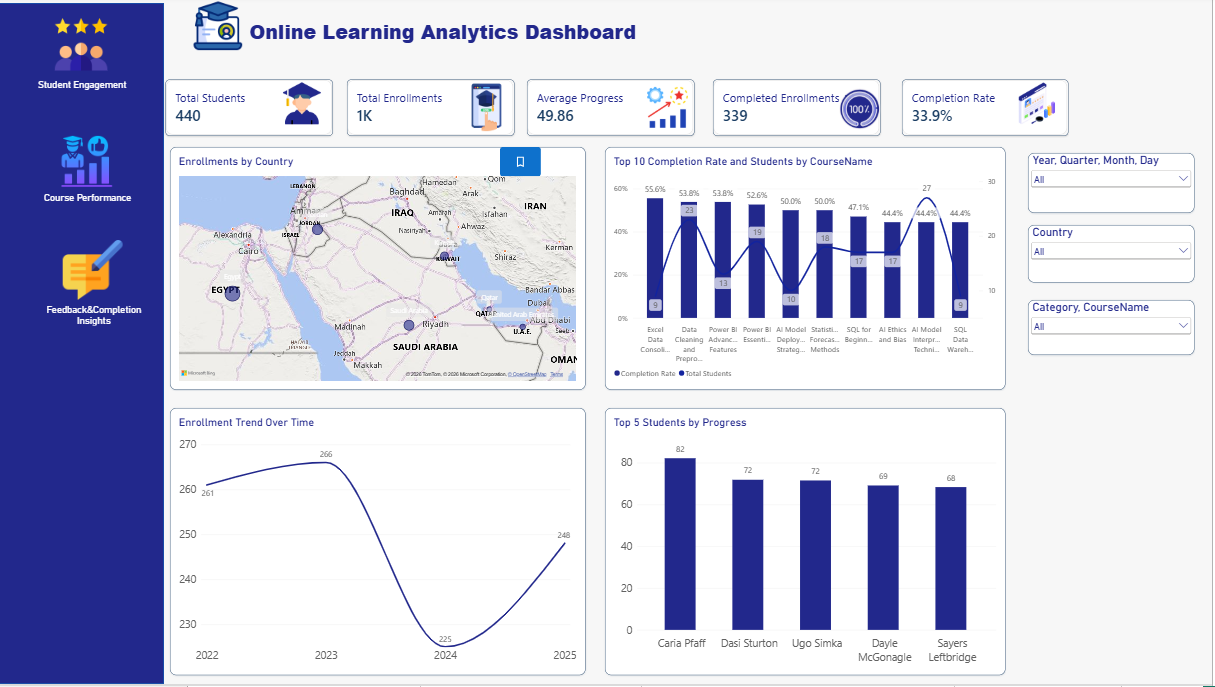

What the dashboard file says about the page in this screenshot:
{"tool":"powerbi","page":{"name":"Student Engagement","canvas":[2300,1300],"ordinal":0},"visuals":[{"type":"map","title":"Enrollments by Country","fields":{"Category":["DimStudents.Country"],"Size":["CountNonNull(FactEnrollments.EnrollID)"]},"box":[329.1,283.7,785.9,459.6],"z":0},{"type":"lineStackedColumnComboChart","title":"Top 5 Students by Progress","fields":{"Y":["Measures (2).Average Progress"],"Category":["DimStudents.Name"]},"box":[1151.9,777.4,757.5,505],"z":1000},{"type":"cardVisual","fields":{"Data":["Measures (2).Total Students"]},"box":[321.6,154.8,316.8,106.4],"z":2000},{"type":"cardVisual","fields":{"Data":["Measures (2).Total Enrollments"]},"box":[662.6,154.8,316.8,106.4],"z":3000},{"type":"cardVisual","fields":{"Data":["Measures (2).Average Progress"]},"box":[1003.6,154.8,316.8,106.4],"z":4000},{"type":"lineStackedColumnComboChart","title":"Top 10 Completion Rate and Students by CourseName","fields":{"Category":["DimCourses.CourseName"],"Y":["Measures (2).Completion Rate"],"Y2":["Measures (2).Total Students"]},"box":[1151.9,283.7,757.5,459.6],"z":5000},{"type":"cardVisual","fields":{"Data":["Measures (2).Completed Enrollments"]},"box":[1356.7,154.8,316.8,106.4],"z":6000},{"type":"cardVisual","fields":{"Data":["Measures (2).Completion Rate"]},"box":[1714.6,154.8,314.4,106.4],"z":7000},{"type":"lineChart","title":"Enrollment Trend Over Time","fields":{"Category":["FactEnrollments.EnrollDate.Variation.Date Hierarchy.Year","FactEnrollments.EnrollDate.Variation.Date Hierarchy.Quarter","FactEnrollments.EnrollDate.Variation.Date Hierarchy.Month","FactEnrollments.EnrollDate.Variation.Date Hierarchy.Day"],"Y":["CountNonNull(FactEnrollments.EnrollID)"]},"box":[329.1,777.4,785.9,505],"z":8000},{"type":"slicer","fields":{"Values":["FactEnrollments.EnrollDate.Variation.Date Hierarchy.Year","FactEnrollments.EnrollDate.Variation.Date Hierarchy.Quarter","FactEnrollments.EnrollDate.Variation.Date Hierarchy.Month","FactEnrollments.EnrollDate.Variation.Date Hierarchy.Day"]},"box":[1951.6,295,314.4,113.7],"z":9000},{"type":"slicer","fields":{"Values":["DimStudents.Country"]},"box":[1951.6,430.5,314.4,108.8],"z":10000},{"type":"slicer","fields":{"Values":["DimCourses.Category Hierarchy.Category","DimCourses.Category Hierarchy.CourseName"]},"box":[1951.6,573.1,314.4,104],"z":11000},{"type":"shape","box":[0,11.3,317.8,1288.1],"z":12000},{"type":"textbox","title":"Online Learning  Analytics Dashboard","box":[478.8,38.7,1022.9,116.1],"z":13000},{"type":"image","box":[360.3,9.7,118.5,91.9],"z":14000},{"type":"image","box":[99.1,38.7,123.3,99.1],"z":15000},{"type":"image","box":[91.9,261.2,162,99.1],"z":16000},{"type":"actionButton","box":[77.4,227.3,195.9,176.5],"z":17000},{"type":"textbox","title":"Student Engagement","box":[79.8,154.8,203.1,70.1],"z":18000},{"type":"actionButton","box":[58,14.5,195.9,188.6],"z":19000},{"type":"textbox","title":"Course Performance","box":[89.5,367.6,195.9,70.1],"z":20000},{"type":"image","box":[125.8,459.5,116.1,113.7],"z":21000},{"type":"textbox","title":"Feedback&Completion Insights","box":[89.5,582.8,188.6,75],"z":22000},{"type":"actionButton","box":[72.5,437.7,205.6,200.7],"z":23000},{"type":"image","box":[536.9,159.6,84.6,84.6],"z":24000},{"type":"image","box":[877.8,162,101.6,91.9],"z":25000},{"type":"image","box":[1230.9,166.9,77.4,82.2],"z":26000},{"type":"image","box":[1579.1,171.7,106.4,77.4],"z":27000},{"type":"image","box":[1927.4,159.6,84.6,84.6],"z":28000},{"type":"actionButton","box":[953.3,283.7,77.4,55.6],"z":29000}]}

Visuals, with their boxes on the page's 2300x1300 design canvas (x1, y1, x2, y2). These are canvas units, not pixel positions in the 1215x687 screenshot, which may show the page scaled, cropped or inside an application window:
"Enrollments by Country" map: crop(329, 284, 1115, 743)
"Top 5 Students by Progress" lineStackedColumnComboChart: crop(1152, 777, 1909, 1282)
cardVisual - Measures (2).Total Students: crop(322, 155, 638, 261)
cardVisual - Measures (2).Total Enrollments: crop(663, 155, 979, 261)
cardVisual - Measures (2).Average Progress: crop(1004, 155, 1320, 261)
"Top 10 Completion Rate and Students by CourseName" lineStackedColumnComboChart: crop(1152, 284, 1909, 743)
cardVisual - Measures (2).Completed Enrollments: crop(1357, 155, 1674, 261)
cardVisual - Measures (2).Completion Rate: crop(1715, 155, 2029, 261)
"Enrollment Trend Over Time" lineChart: crop(329, 777, 1115, 1282)
slicer - FactEnrollments.EnrollDate.Variation.Date Hierarchy.Year x FactEnrollments.EnrollDate.Variation.Date Hierarchy.Quarter: crop(1952, 295, 2266, 409)
slicer - DimStudents.Country: crop(1952, 430, 2266, 539)
slicer - DimCourses.Category Hierarchy.Category x DimCourses.Category Hierarchy.CourseName: crop(1952, 573, 2266, 677)
shape: crop(0, 11, 318, 1299)
"Online Learning  Analytics Dashboard" textbox: crop(479, 39, 1502, 155)
image: crop(360, 10, 479, 102)
image: crop(99, 39, 222, 138)
image: crop(92, 261, 254, 360)
actionButton: crop(77, 227, 273, 404)
"Student Engagement" textbox: crop(80, 155, 283, 225)
actionButton: crop(58, 14, 254, 203)
"Course Performance" textbox: crop(90, 368, 285, 438)
image: crop(126, 460, 242, 573)
"Feedback&Completion Insights" textbox: crop(90, 583, 278, 658)
actionButton: crop(72, 438, 278, 638)
image: crop(537, 160, 622, 244)
image: crop(878, 162, 979, 254)
image: crop(1231, 167, 1308, 249)
image: crop(1579, 172, 1686, 249)
image: crop(1927, 160, 2012, 244)
actionButton: crop(953, 284, 1031, 339)
